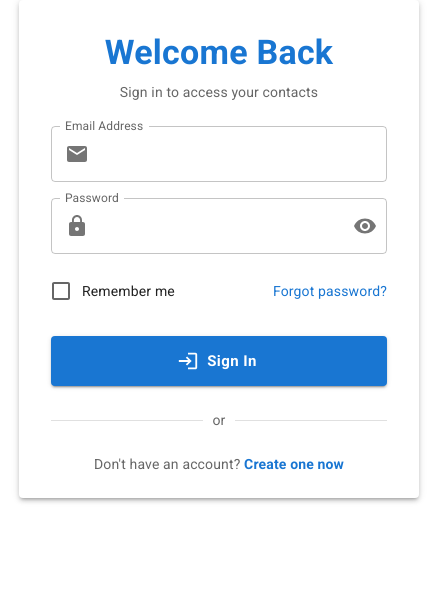
Scenario: LoginForm › Error Handling › should handle network errors gracefully
The image size is (439, 592).
In the field labelled "Email Address": coordinates (242, 154) x1=97 y1=126 x2=387 y2=182, type "test@example.com"
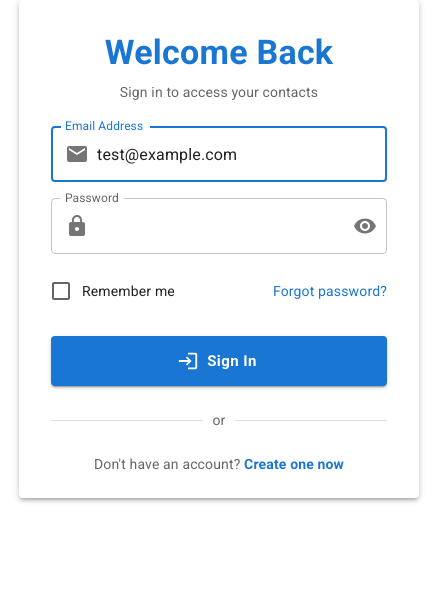
In the password field labelled "Password": coordinates (217, 226) x1=97 y1=198 x2=337 y2=254, type "TestPass123!"
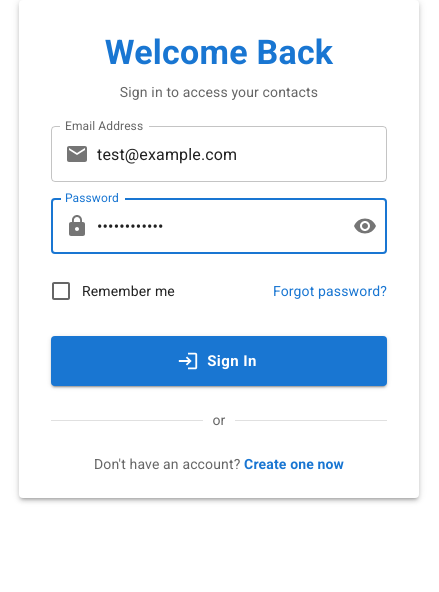
Click the button "Sign In": coordinates (219, 361) x1=51 y1=336 x2=387 y2=386
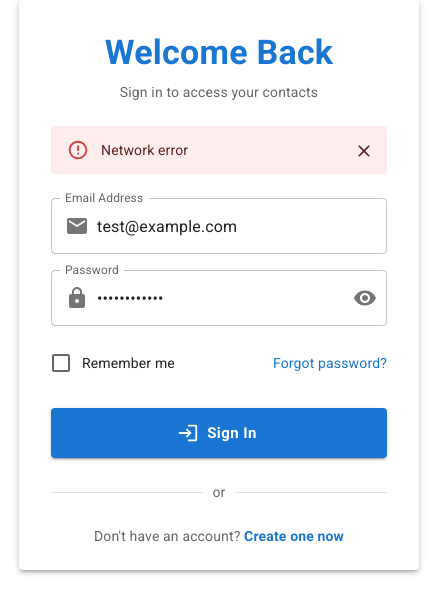
Expected: the text "Network error" is shown, x1=101 y1=142 x2=188 y2=158
